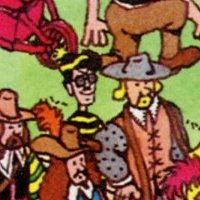odlaw: (68, 52, 98, 105)
